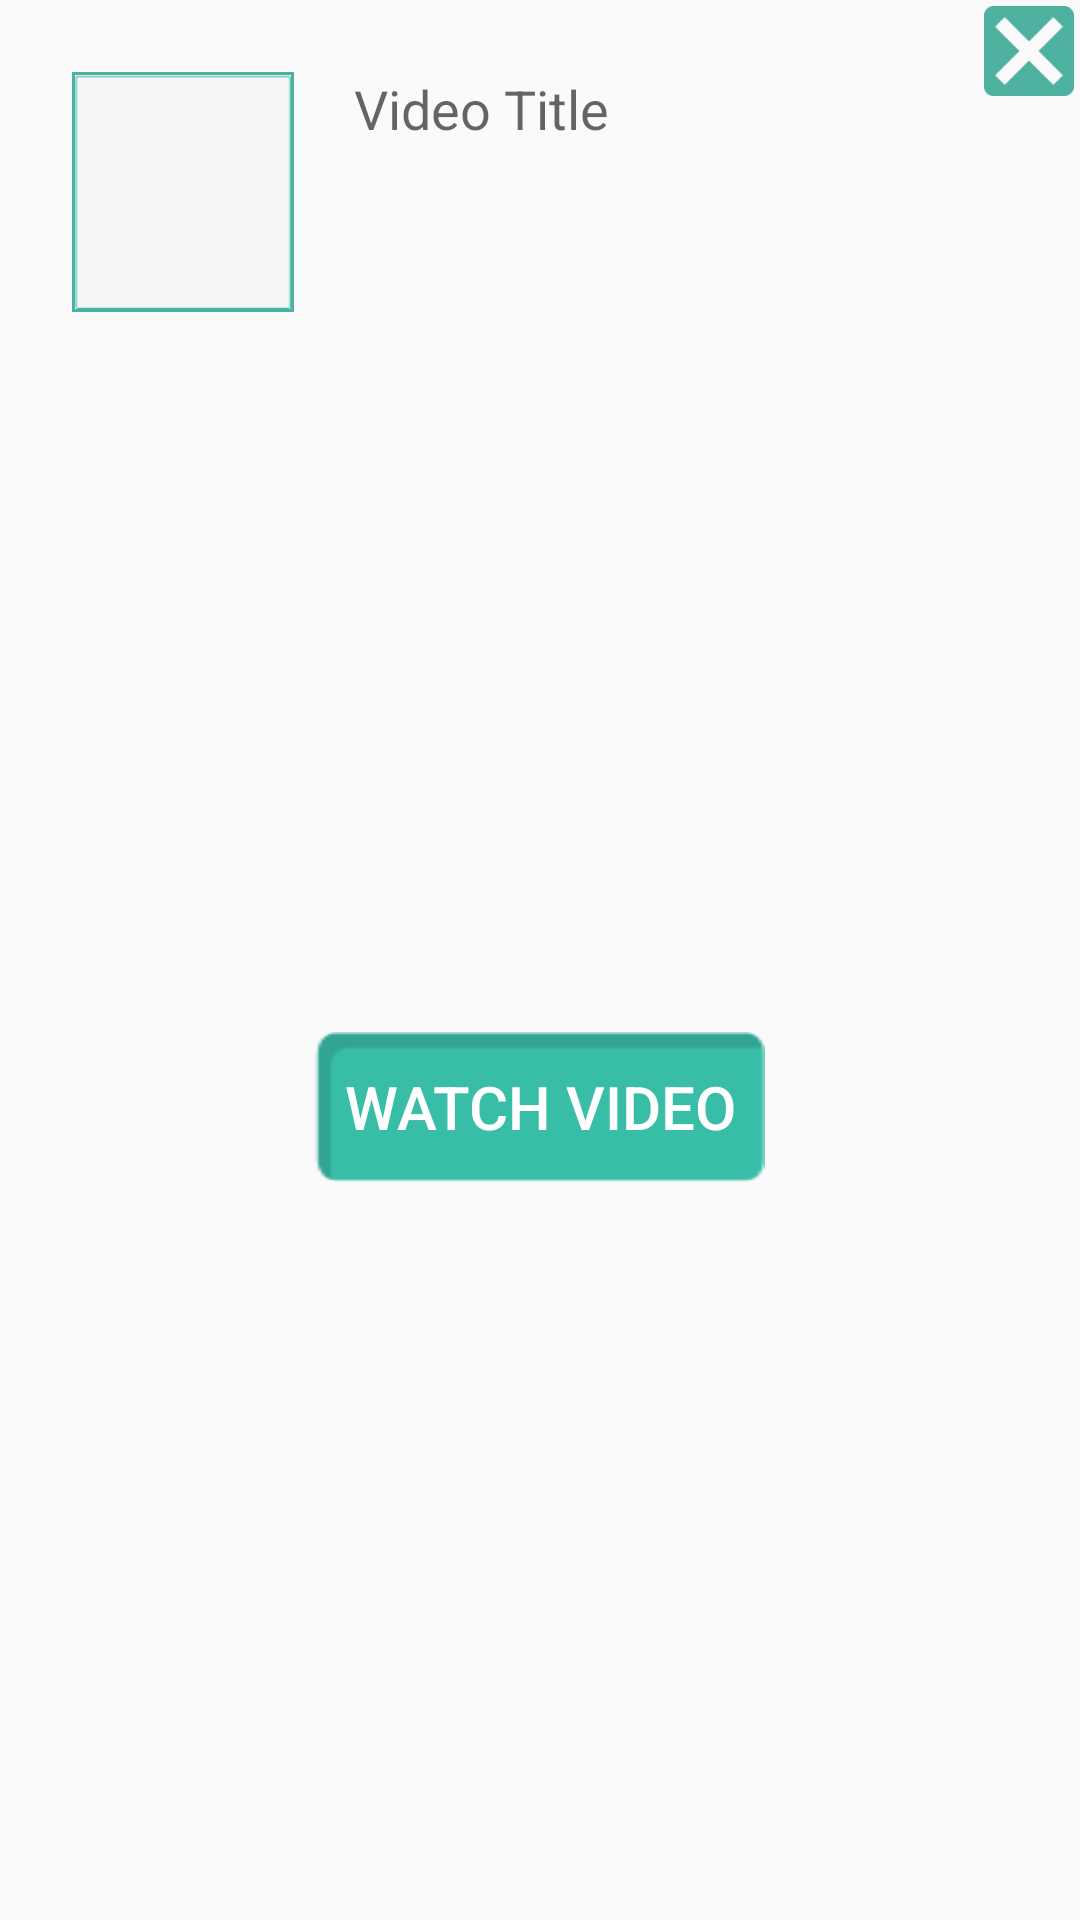

Screen size 1080 × 1920. Icon name, then its box in pixels as [left=x1, top=y1, right=x2, bottom=y2]:
btnclose: [left=984, top=6, right=1074, bottom=96]
